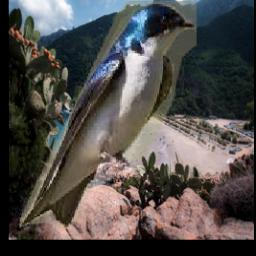Swallow: (18, 1, 196, 229)
